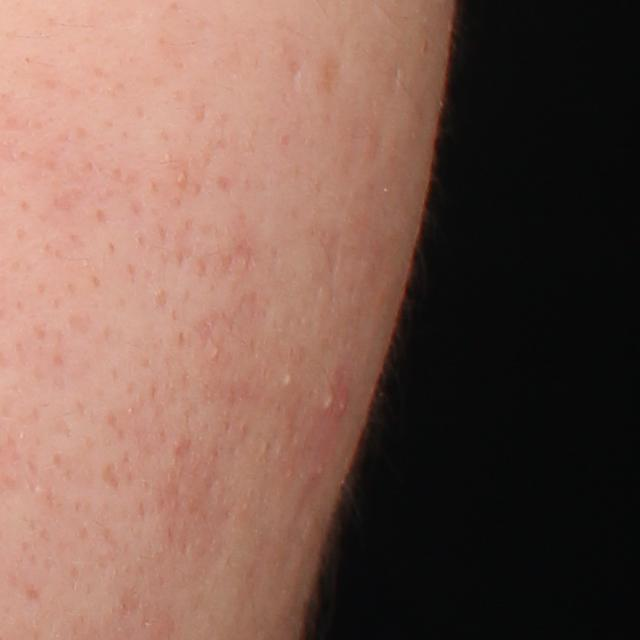atrophic_scar: (287, 57, 308, 92), (103, 460, 118, 492)
comedo: (282, 372, 296, 387)
